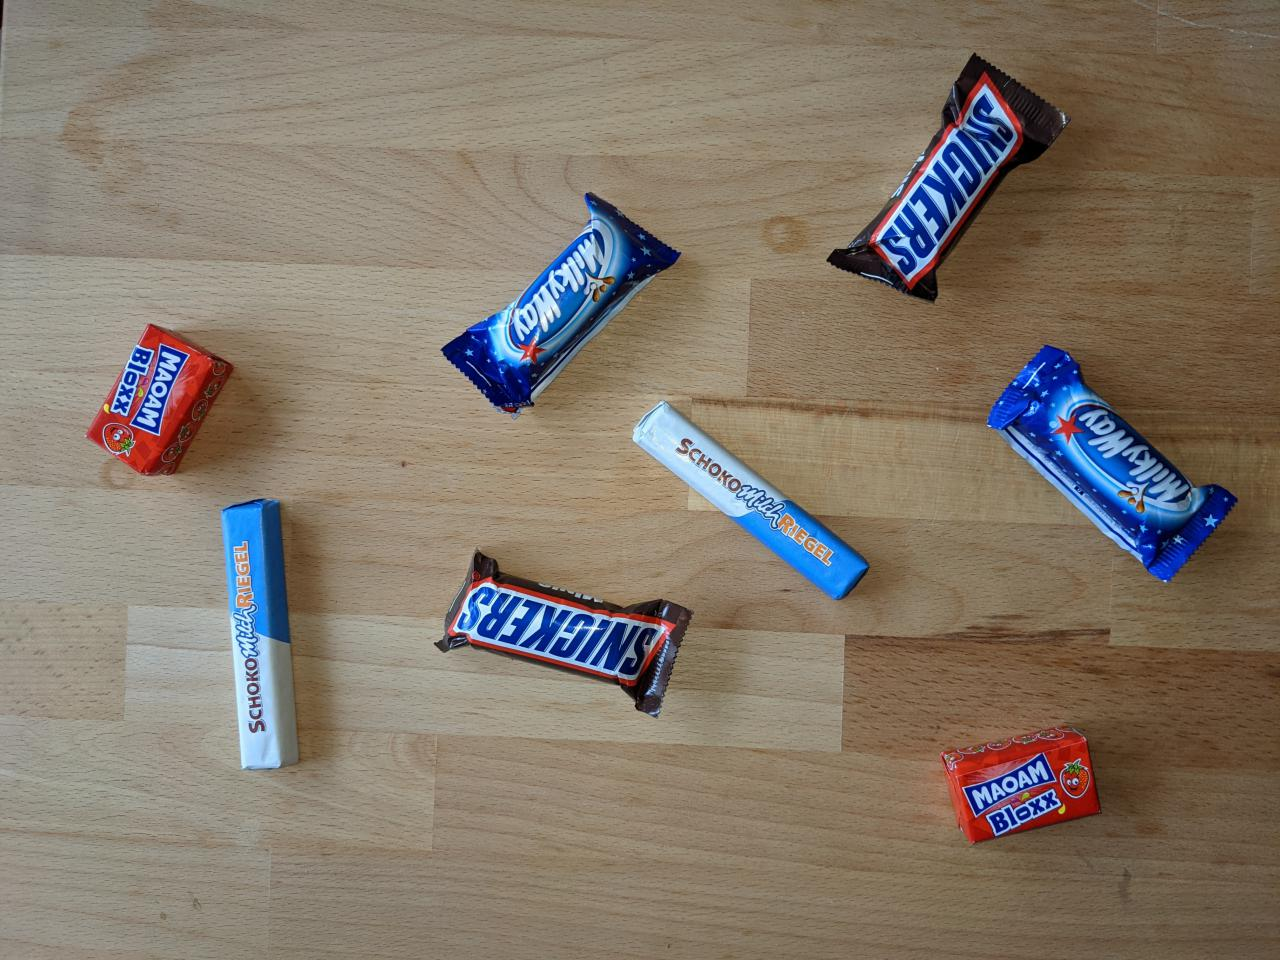MAOAM: (80, 318, 240, 482), (933, 720, 1108, 855)
MilkyWay: (981, 339, 1244, 590), (436, 186, 693, 424)
Schokoriegel: (626, 396, 876, 608), (215, 494, 305, 776)
Snickers: (820, 49, 1074, 309), (430, 543, 698, 726)
